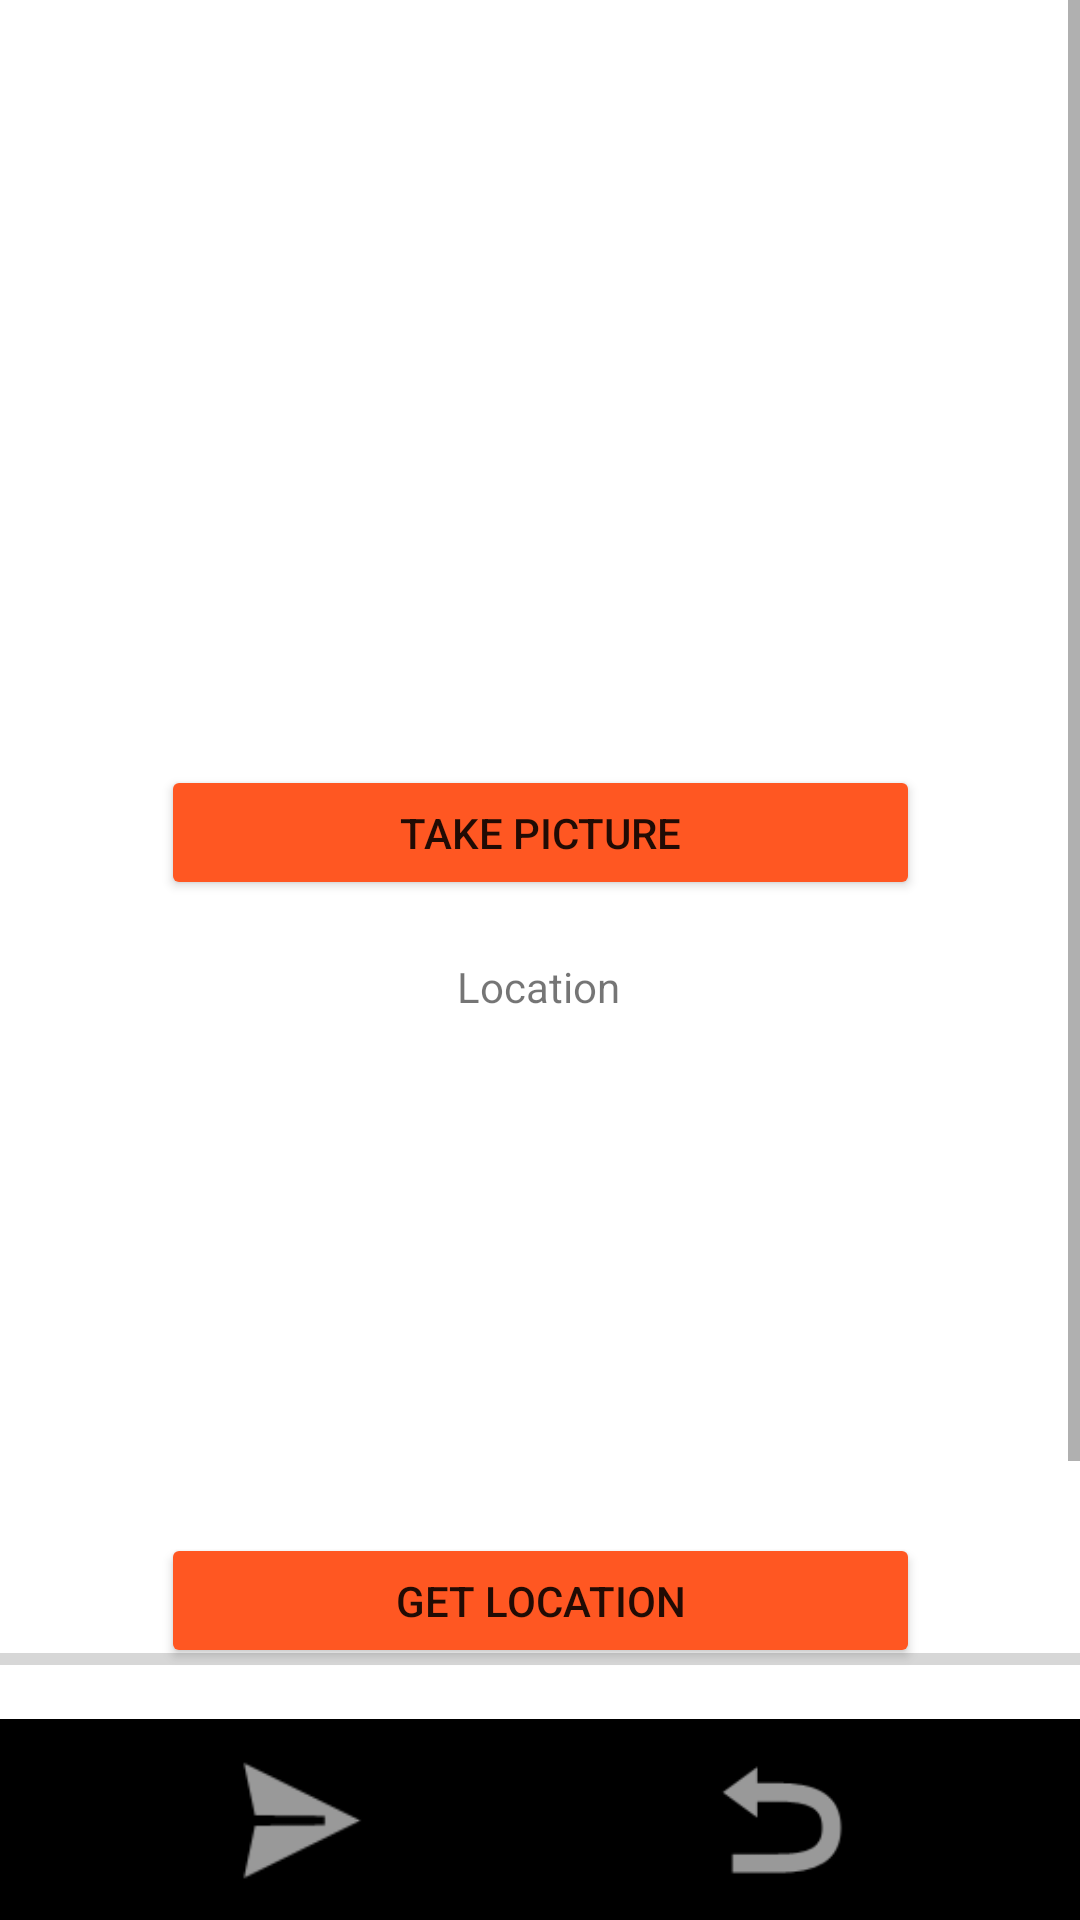

Icon bounding boxes for this 1080*1920 phone screenshot, format {"left": x1, "top": y1, "right": x2, "bottom": y2}:
revert: {"left": 723, "top": 1767, "right": 842, "bottom": 1874}
send: {"left": 243, "top": 1763, "right": 361, "bottom": 1878}
